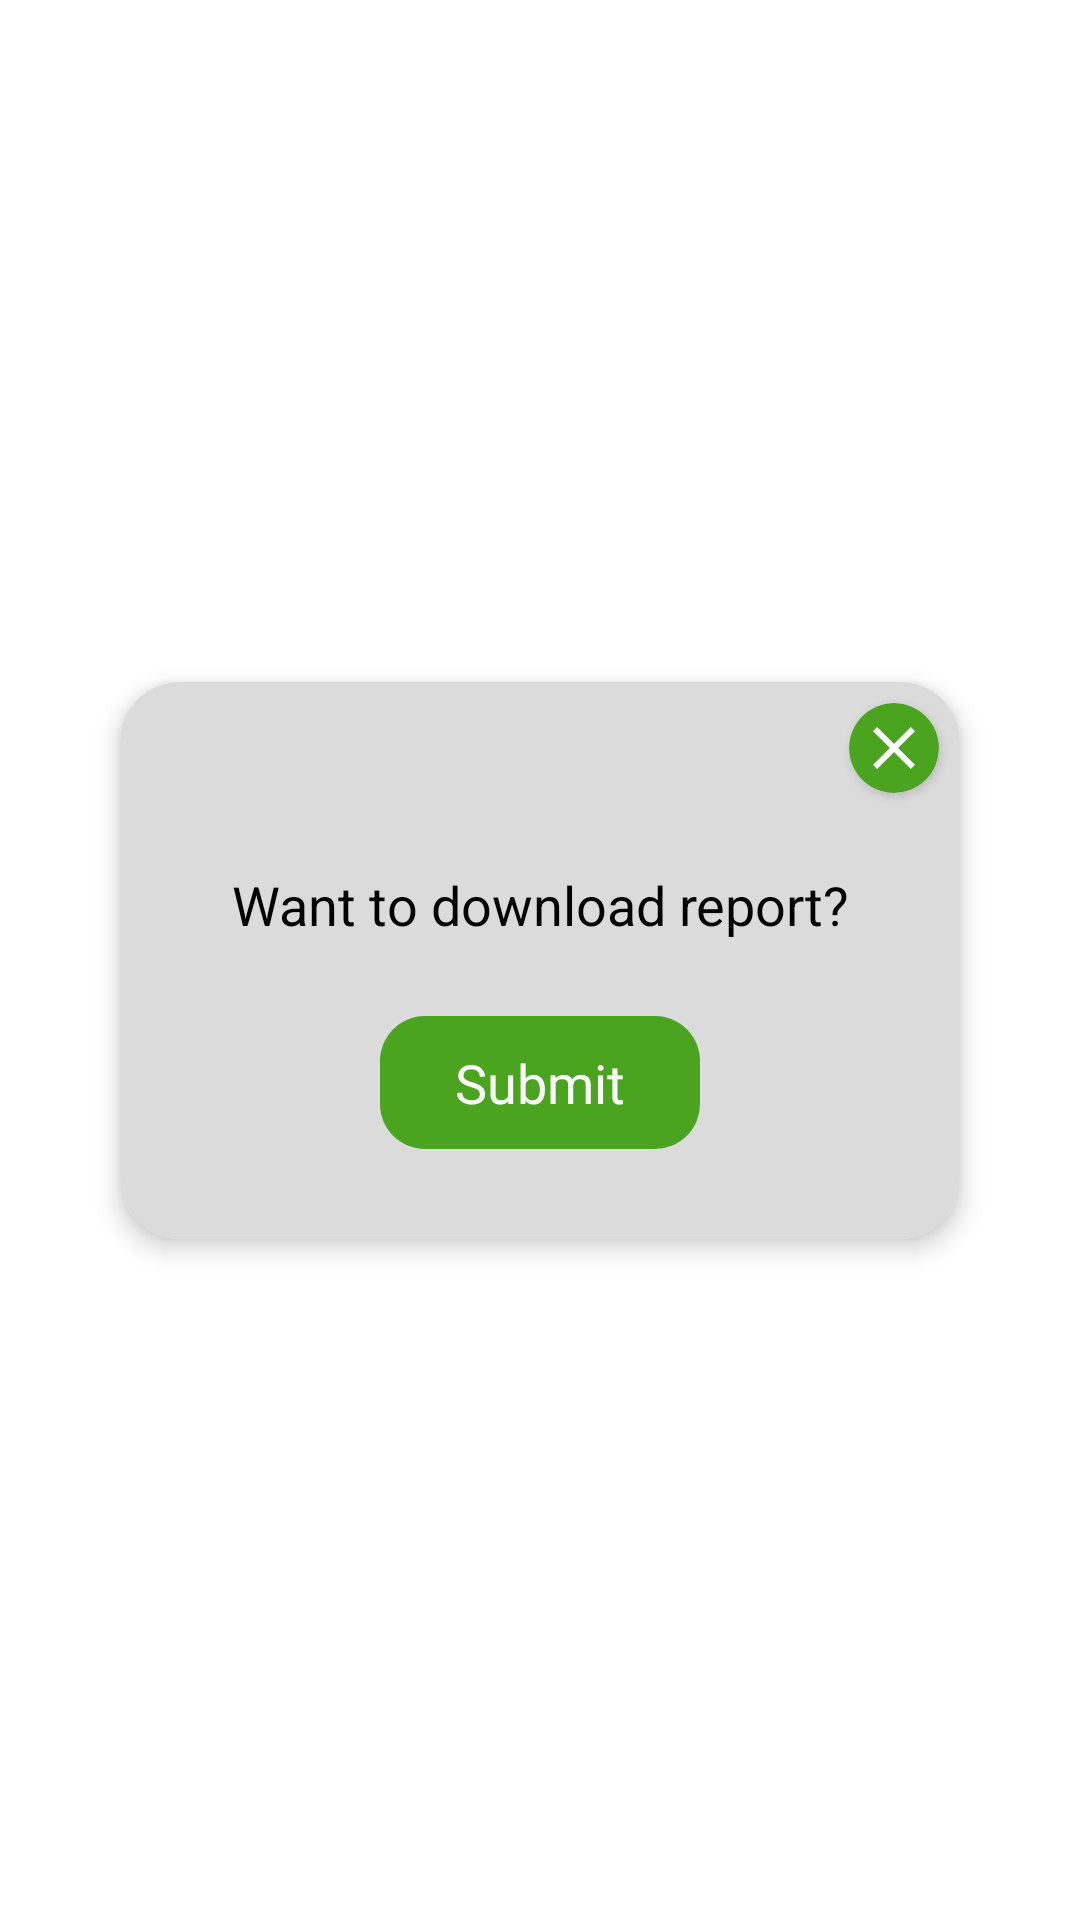

Named icons in this screenshot (1080 × 1920) and their bounding boxes, [x1,y1,x2,y2]:
clear: [849,703,939,793]
